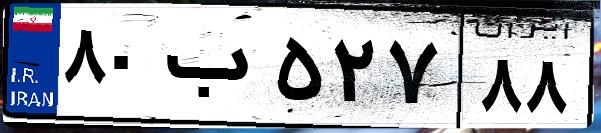0: (110, 28, 158, 98)
2: (330, 28, 385, 110)
5: (270, 28, 330, 110)
7: (385, 28, 445, 110)
8: (57, 26, 110, 100), (475, 38, 525, 113), (525, 38, 570, 115)
ب: (158, 20, 270, 120)
